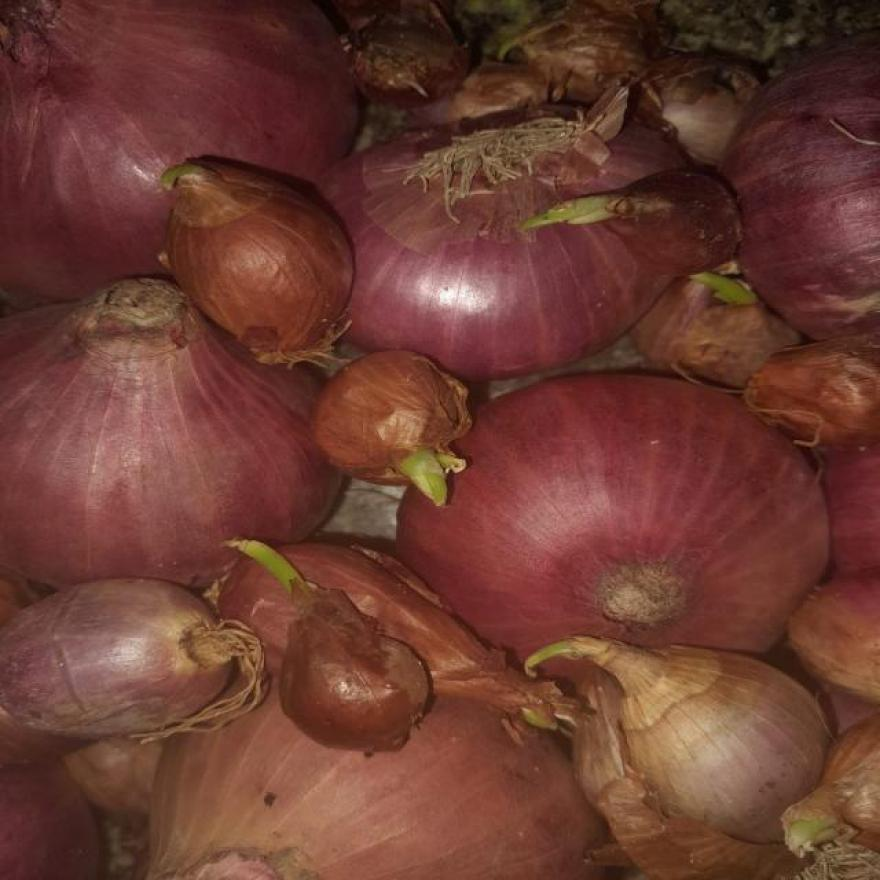Sprouted: (525, 193, 673, 239), (506, 639, 620, 684), (236, 536, 318, 592), (677, 272, 764, 310), (401, 446, 447, 515)
